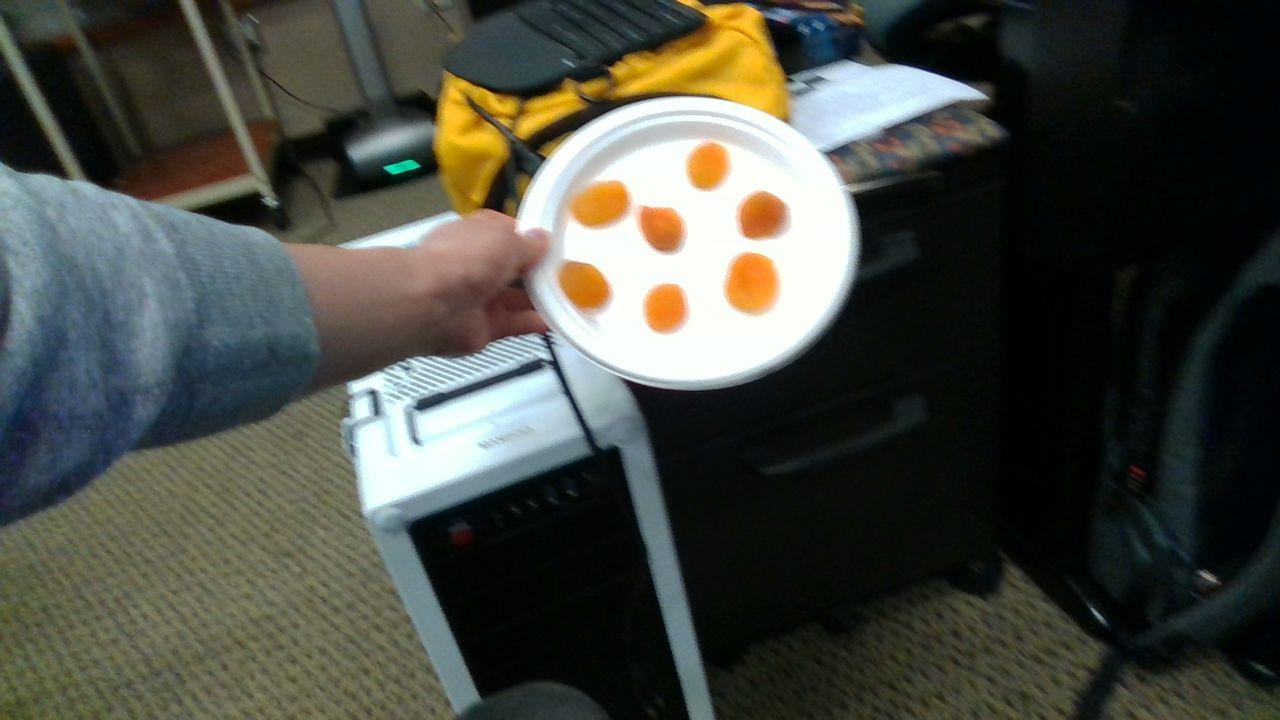apricot: (727, 252, 778, 312), (576, 180, 628, 226), (740, 193, 789, 239), (561, 261, 608, 307), (647, 284, 685, 333), (690, 144, 729, 190), (645, 205, 683, 251)
plate: (518, 97, 858, 389)
